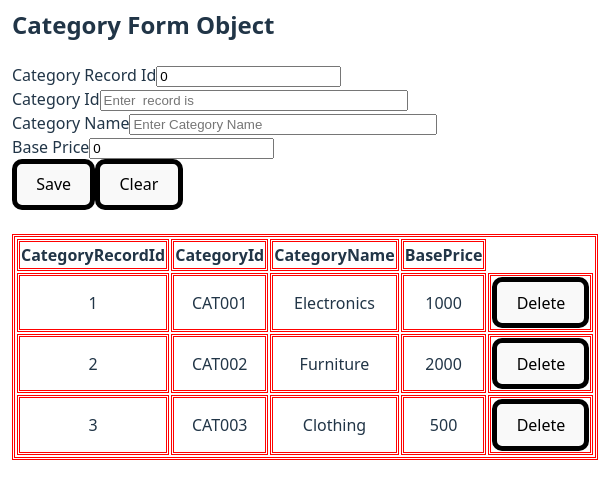
Test: CategoryStateTanstackQueryComponent › Form Interactions › should clear form when Clear button is clicked
The image size is (615, 477).
Type "CAT005" into the field with placeholder "Enter record is" at (254, 100), box [100,90,408,111]
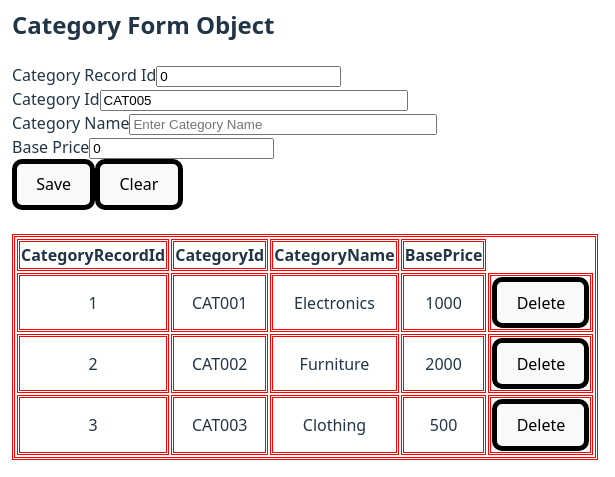
Type "Test" into the field with placeholder "Enter Category Name" at (284, 124), box [130,114,438,135]
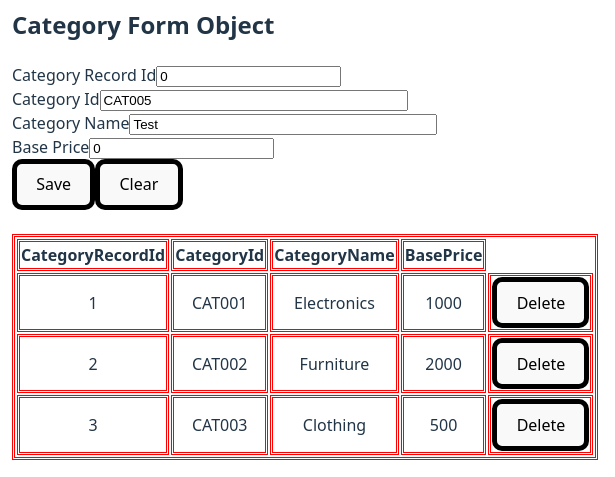
Click the button "Clear" at (139, 184), box [95,159,182,210]
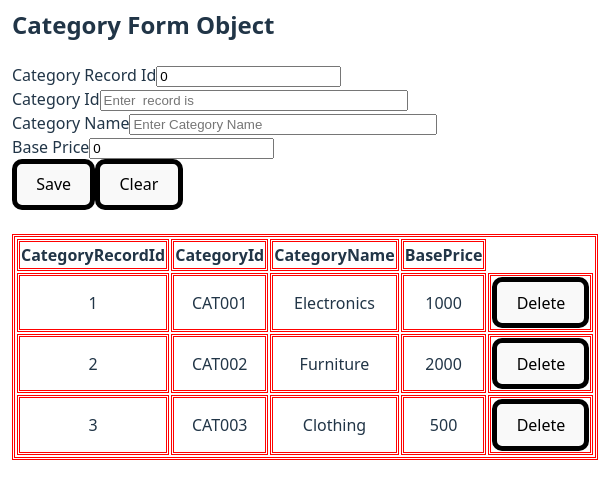
Check: the field with placeholder "Enter record is" is empty, box [100,90,408,111]
Check: the field with placeholder "Enter Category Name" is empty, box [130,114,438,135]
